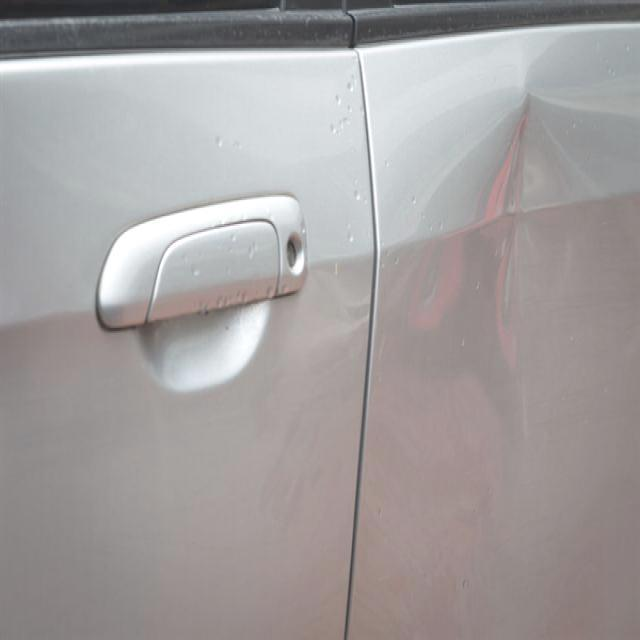minor: (411, 70, 618, 467)
